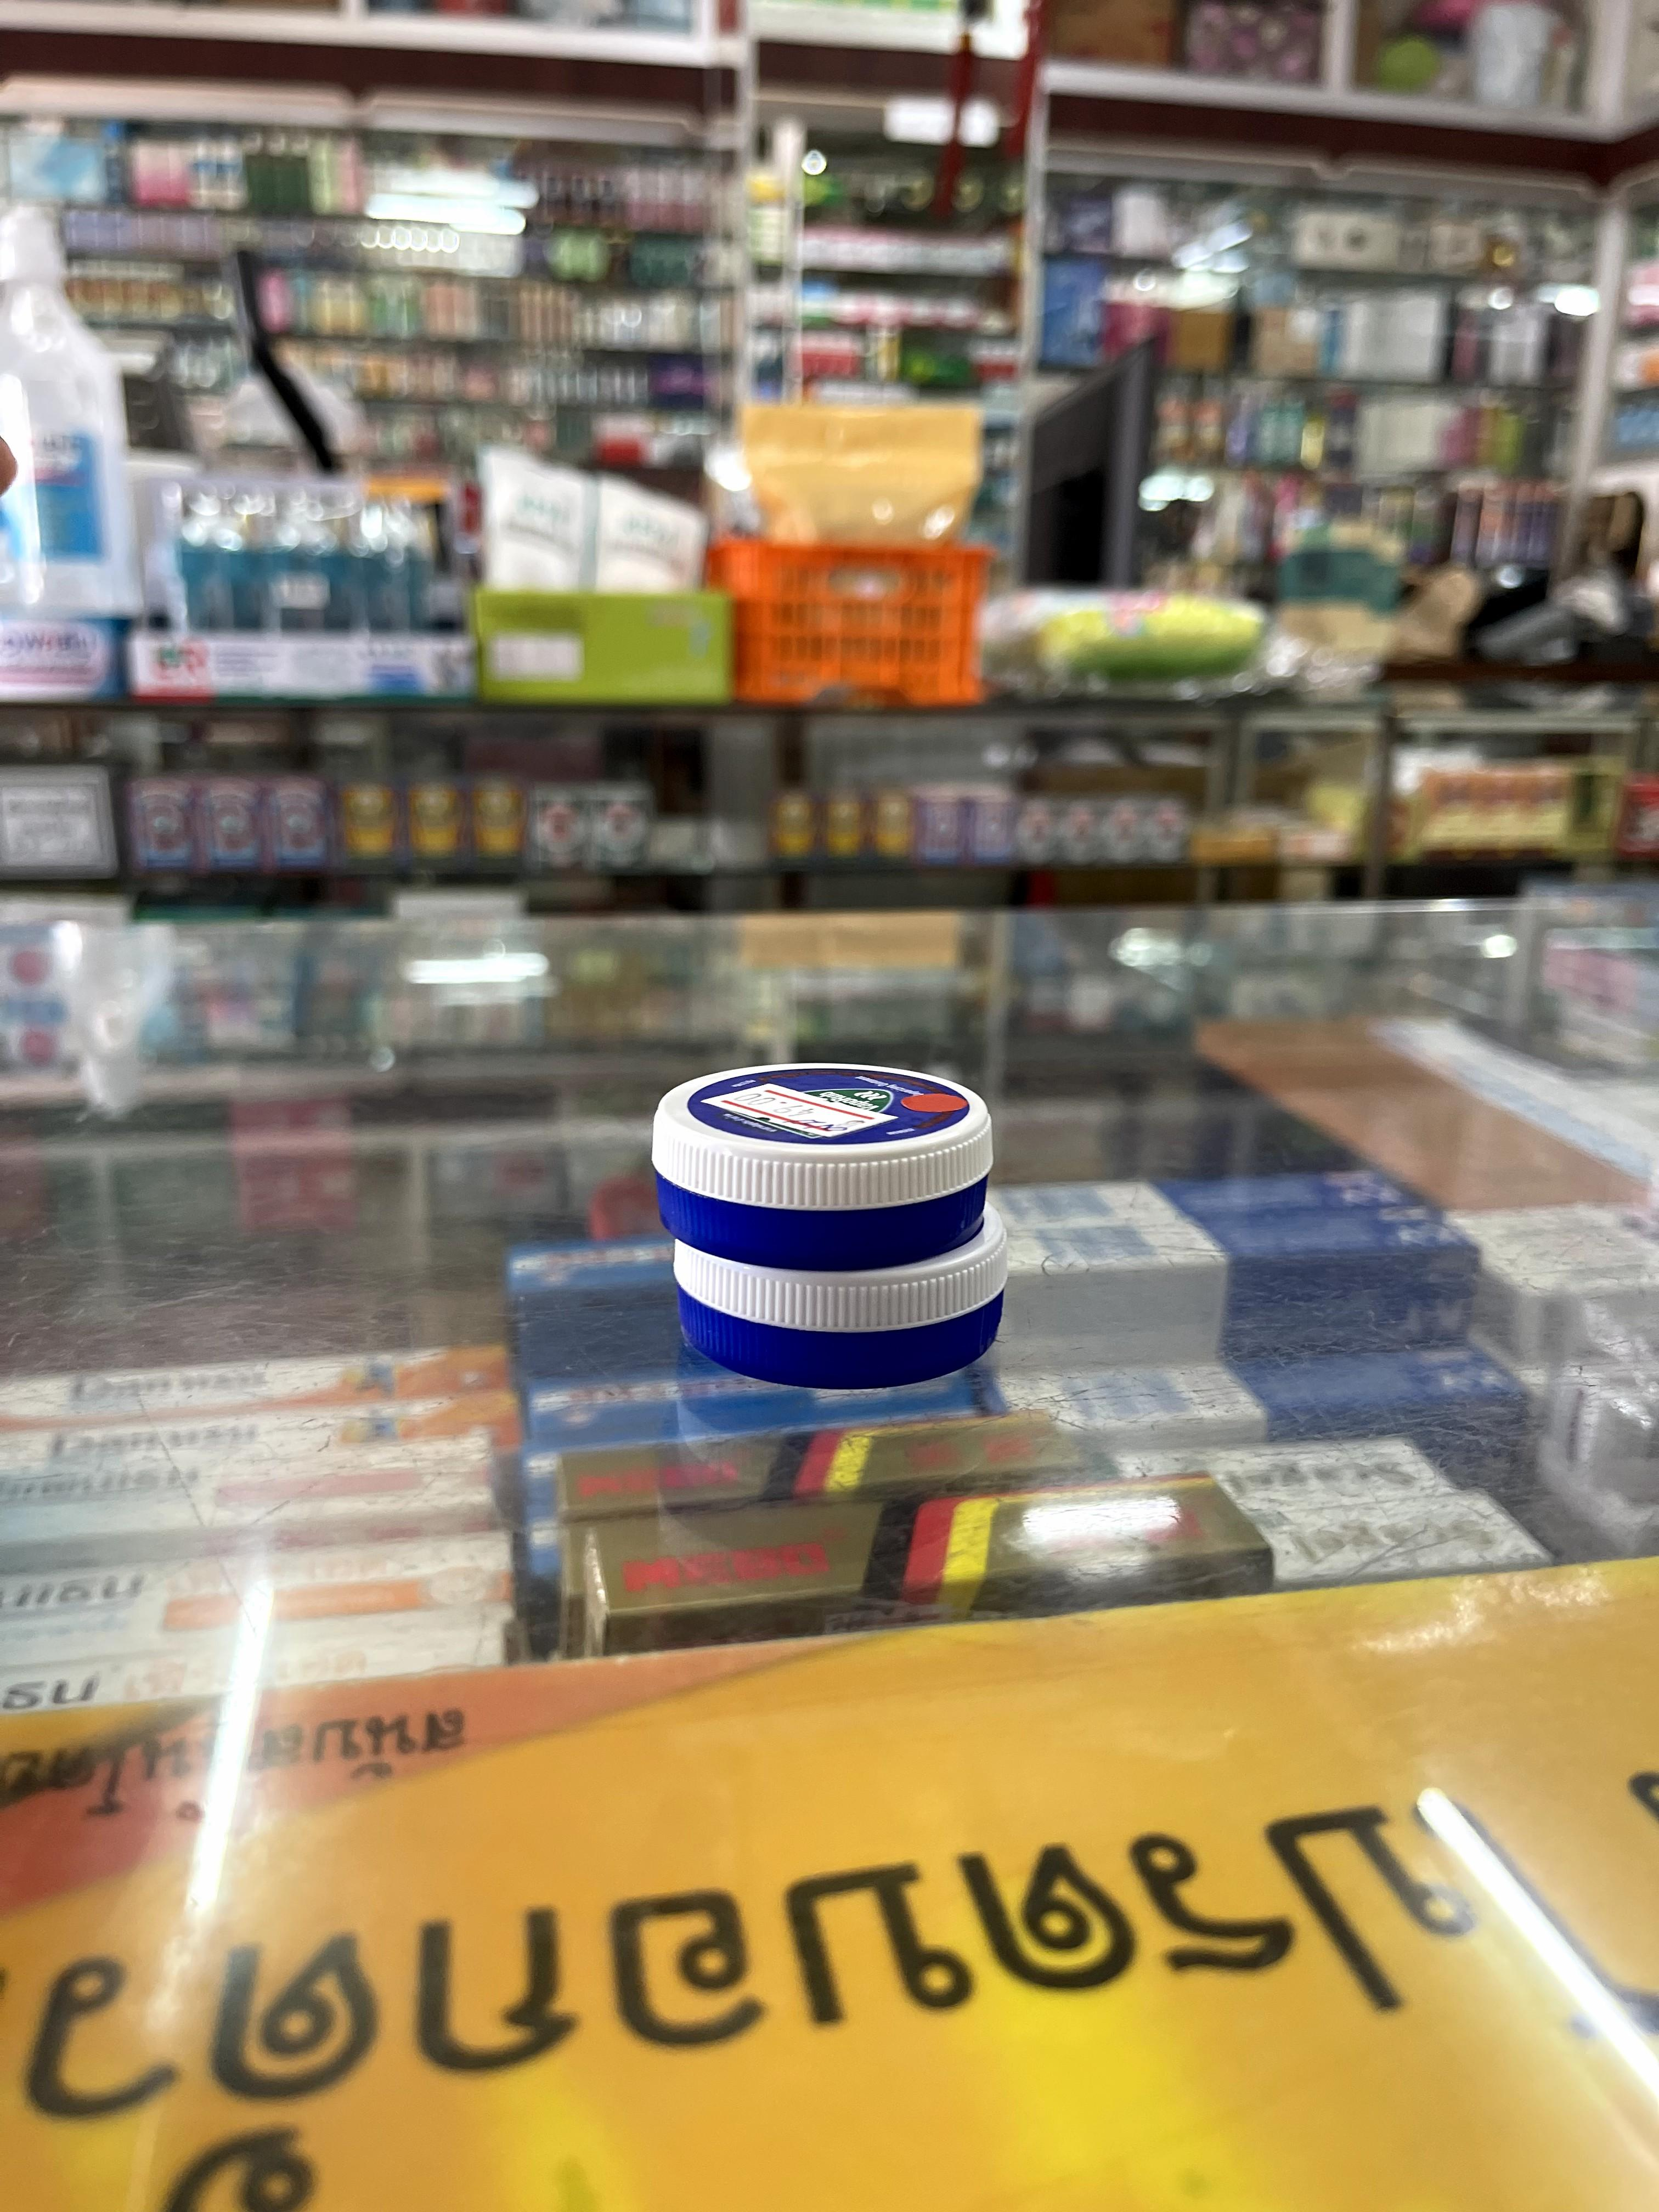VapoRub_Small: (653, 1061, 993, 1264), (673, 1231, 1004, 1388)
